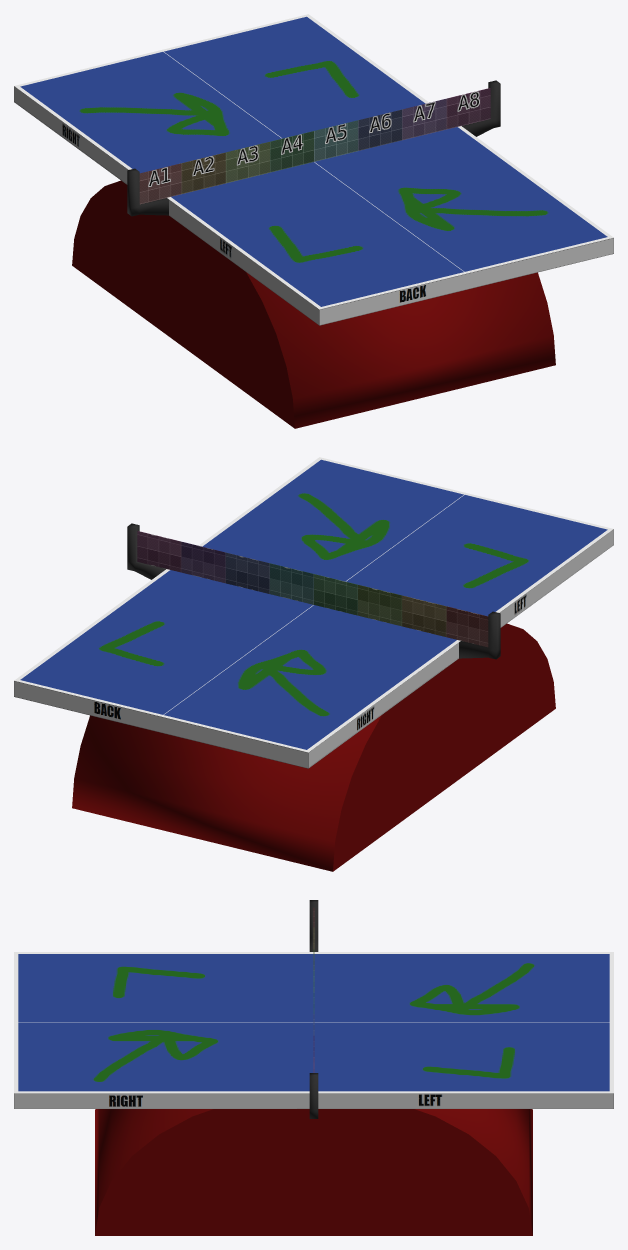
File: table-tennis-table.glb
3 views of the same model, one above another, from view 1: azimuth 30°, elevation 25°; view 2: azimuth 150°, elevation 25°; view 3: azimuth 270°, elevation 25° (orthographic).
Visible parts, largest first — view 1: Side A, foot, Side B, Net, Post B, Post A; view 2: Side B, foot, Side A, Net, Post B, Post A; view 3: foot, Side A, Side B, Post B, Post A.
Boxes of the visible parts, x1,y1,x2,y2 form: Side A: (167, 126, 613, 325); foot: (72, 180, 555, 428); Side B: (14, 14, 428, 184); Net: (139, 88, 490, 204); Post B: (127, 168, 168, 216); Post A: (462, 80, 500, 136); Side B: (14, 569, 460, 768); foot: (72, 623, 555, 871); Side A: (199, 457, 613, 627); Net: (137, 531, 488, 647); Post B: (459, 611, 500, 659); Post A: (127, 523, 165, 579); foot: (95, 1109, 532, 1235); Side A: (14, 952, 313, 1108); Side B: (314, 952, 613, 1108); Post B: (309, 900, 318, 951); Post A: (309, 1073, 318, 1118).
Size of the model in its own units: 1.91 by 0.9325 by 2.74.
Materials: 6 (3 with a texture image).
